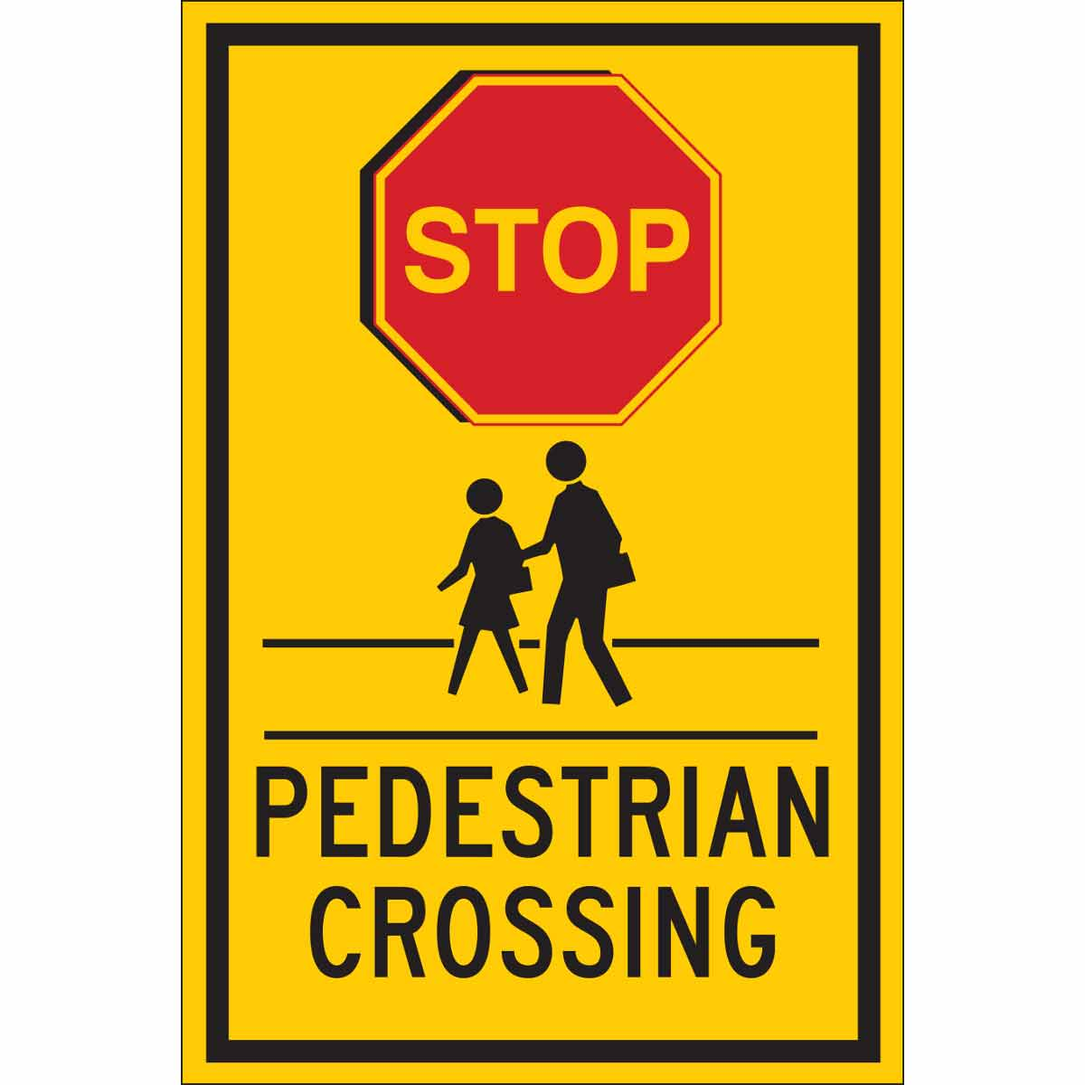CrossSign: (177, 2, 916, 1085)
